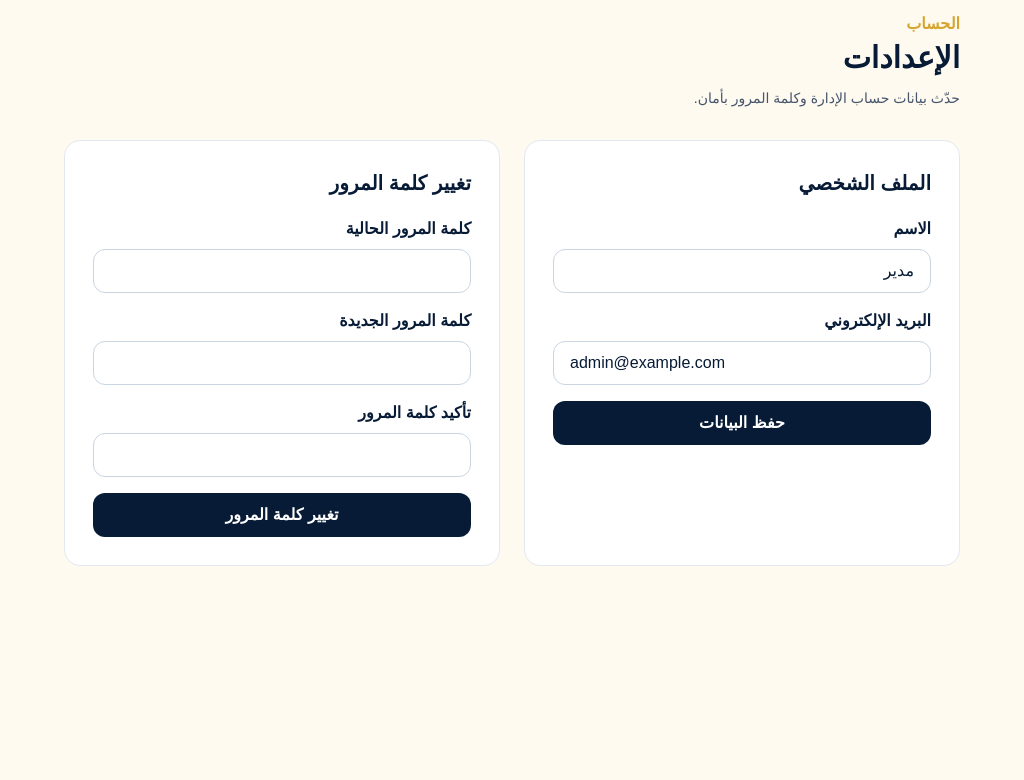
Test: AdminSettingsPage › validates and changes a strong confirmed password
In the password field labelled "كلمة المرور الحالية": [282, 271] box [93,249,471,293], type "OldPassword1"
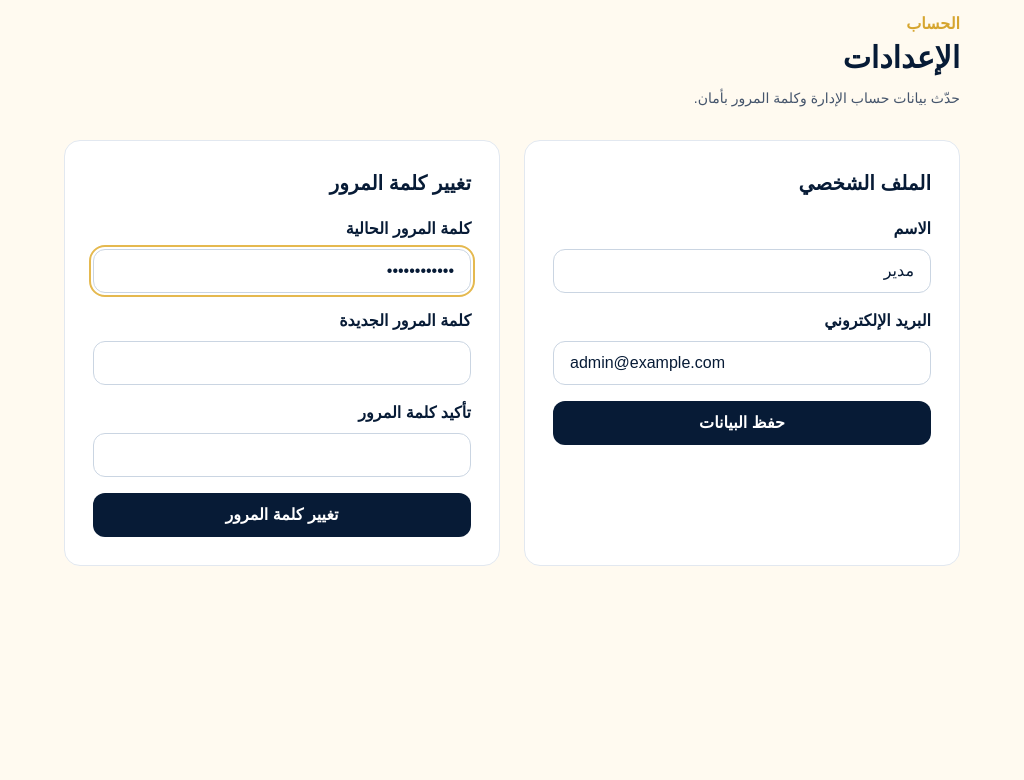
In the password field labelled "كلمة المرور الجديدة": [282, 363] box [93,341,471,385], type "NewPassword2"
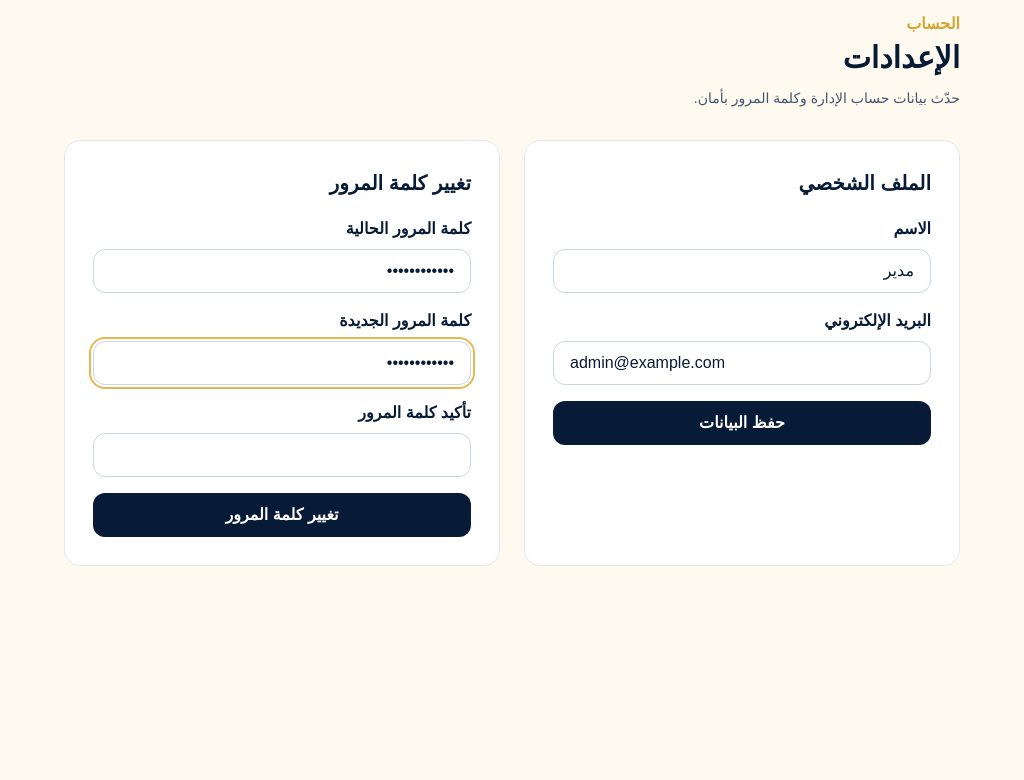
In the password field labelled "تأكيد كلمة المرور": [282, 455] box [93,433,471,477], type "NewPassword2"
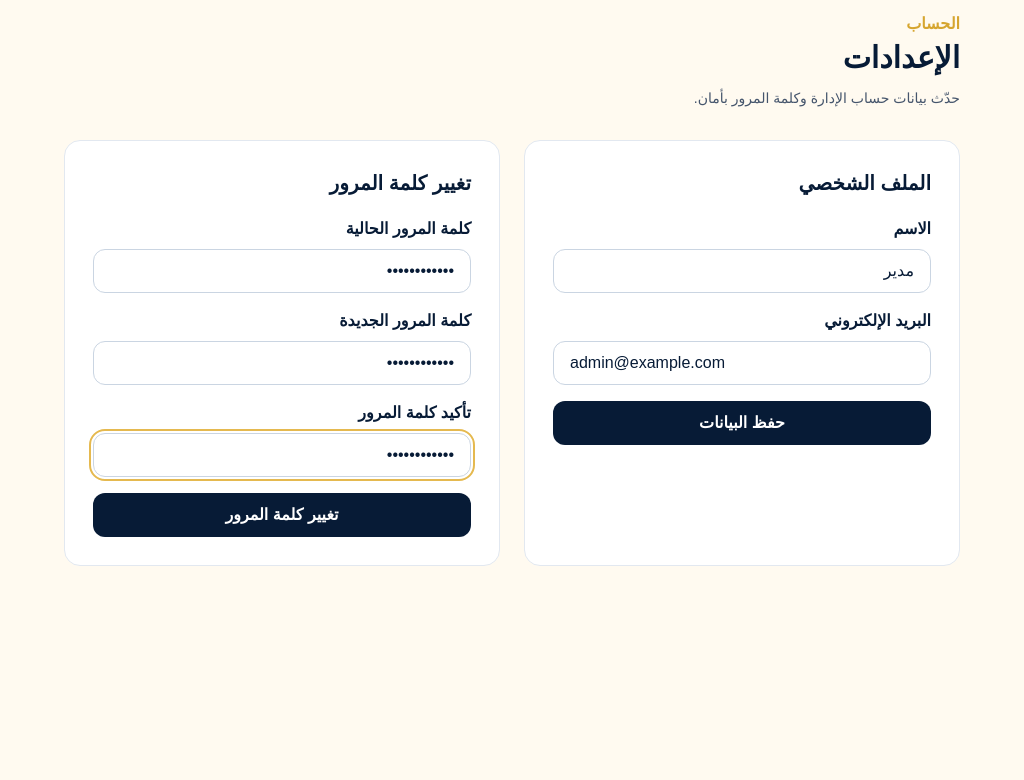
Click the button "تغيير كلمة المرور": [282, 515] box [93,493,471,537]
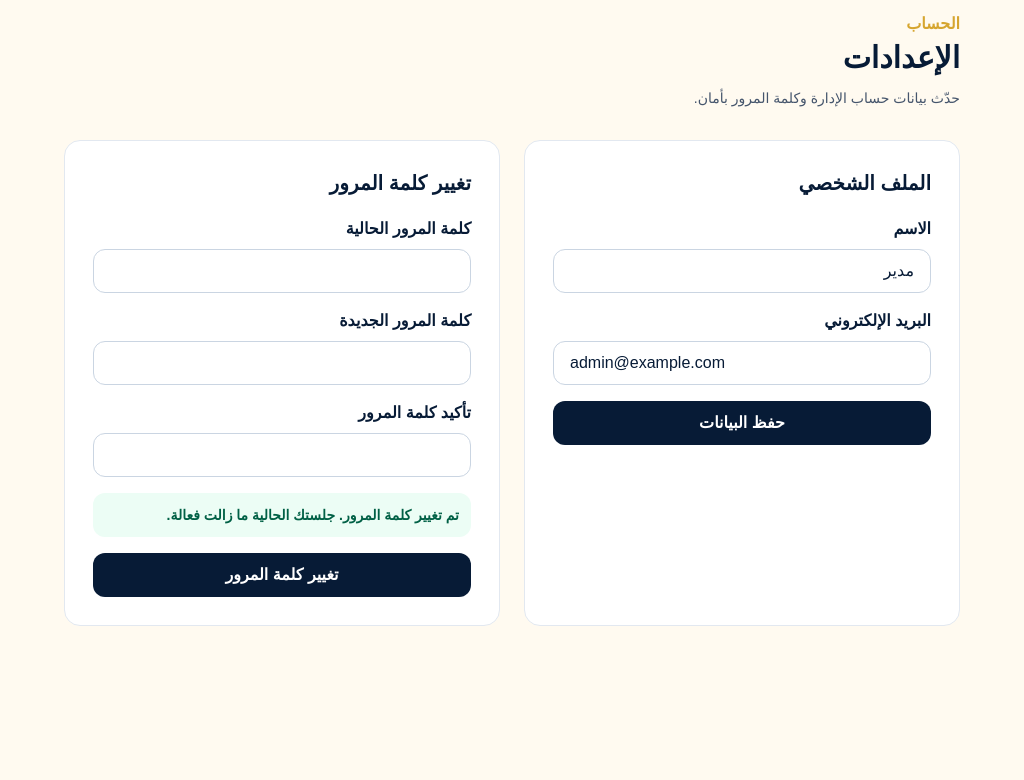
Expected: the text "تم تغيير كلمة المرور. جلستك الحالية ما زالت فعالة." is shown, [93,493,471,537]
